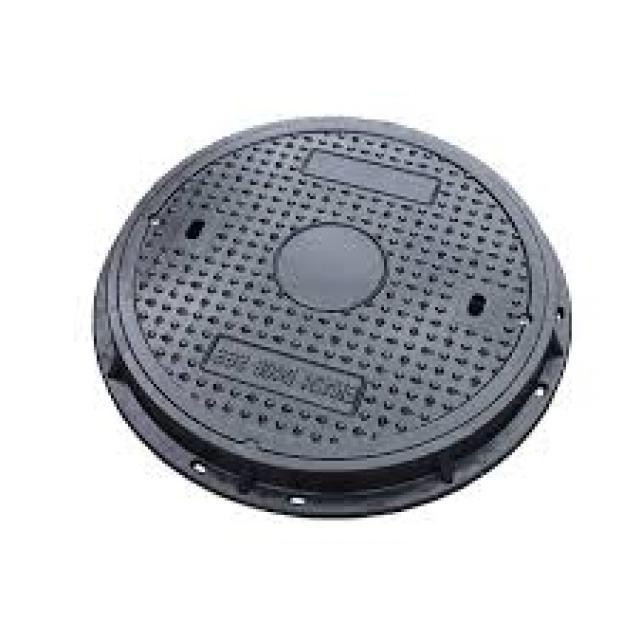Sewer Cover: (66, 84, 599, 538)
